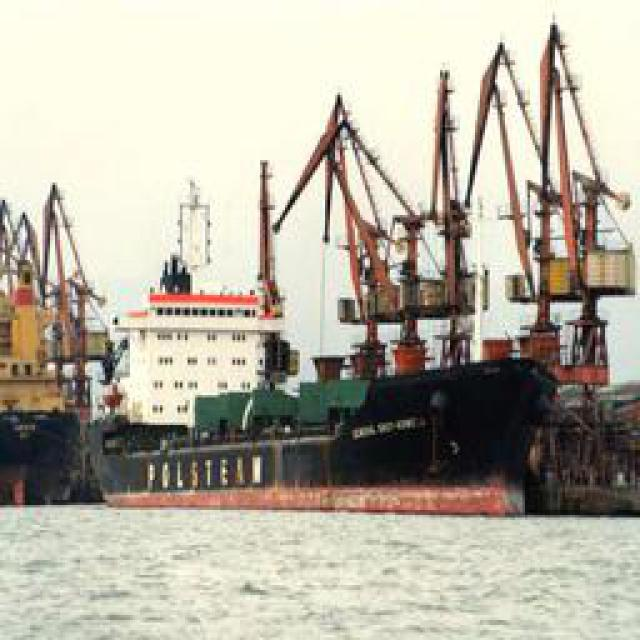Ship: (111, 37, 621, 495)
